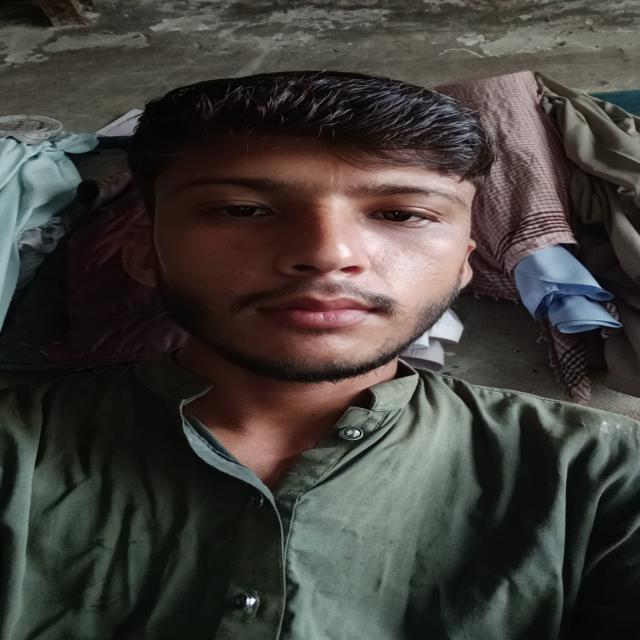Englarged-Pores: (372, 244, 440, 284)
Eyebags: (361, 222, 455, 242), (190, 220, 287, 236)
